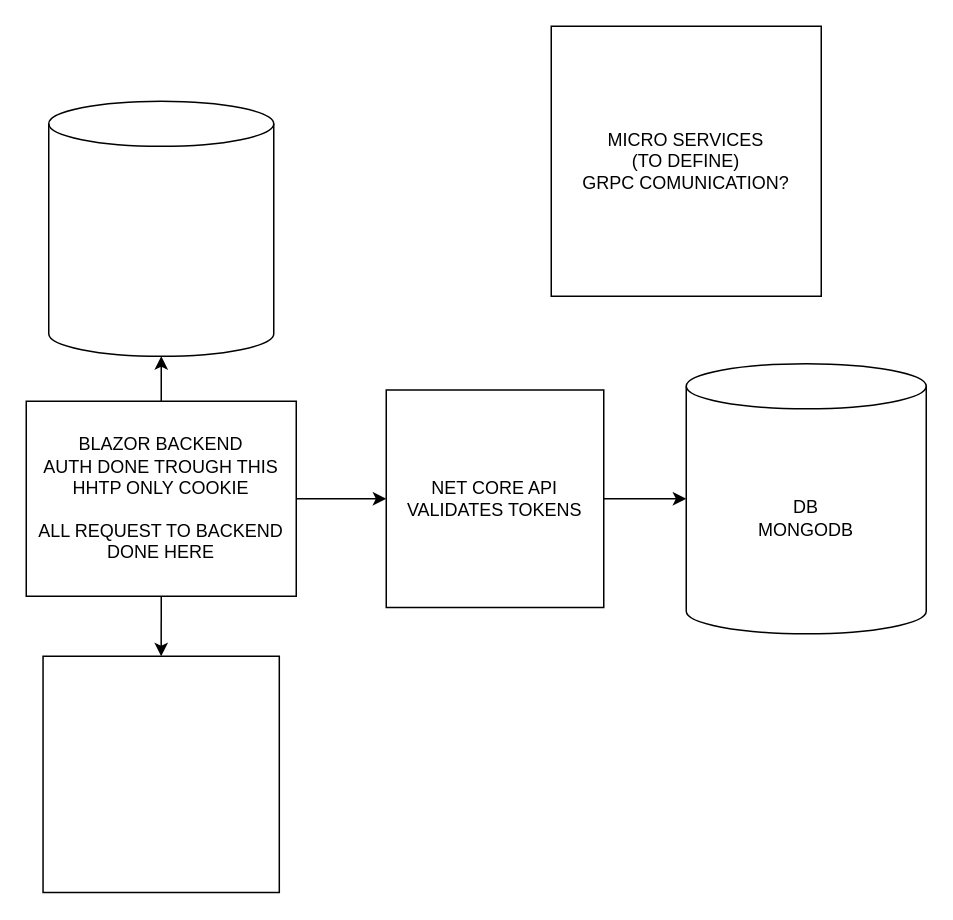
This 953x920 diagram has some shape labels left out. The shapes that lost their labels are listed below. From the top down, each one's centre as x and y in pixels, then its label:
At pixel 160 228: "AUTH USERS DB FIREBASE".
At pixel 160 773: "BLAZOR WASM UI REQUEST TO BLAZOR SERVER".
